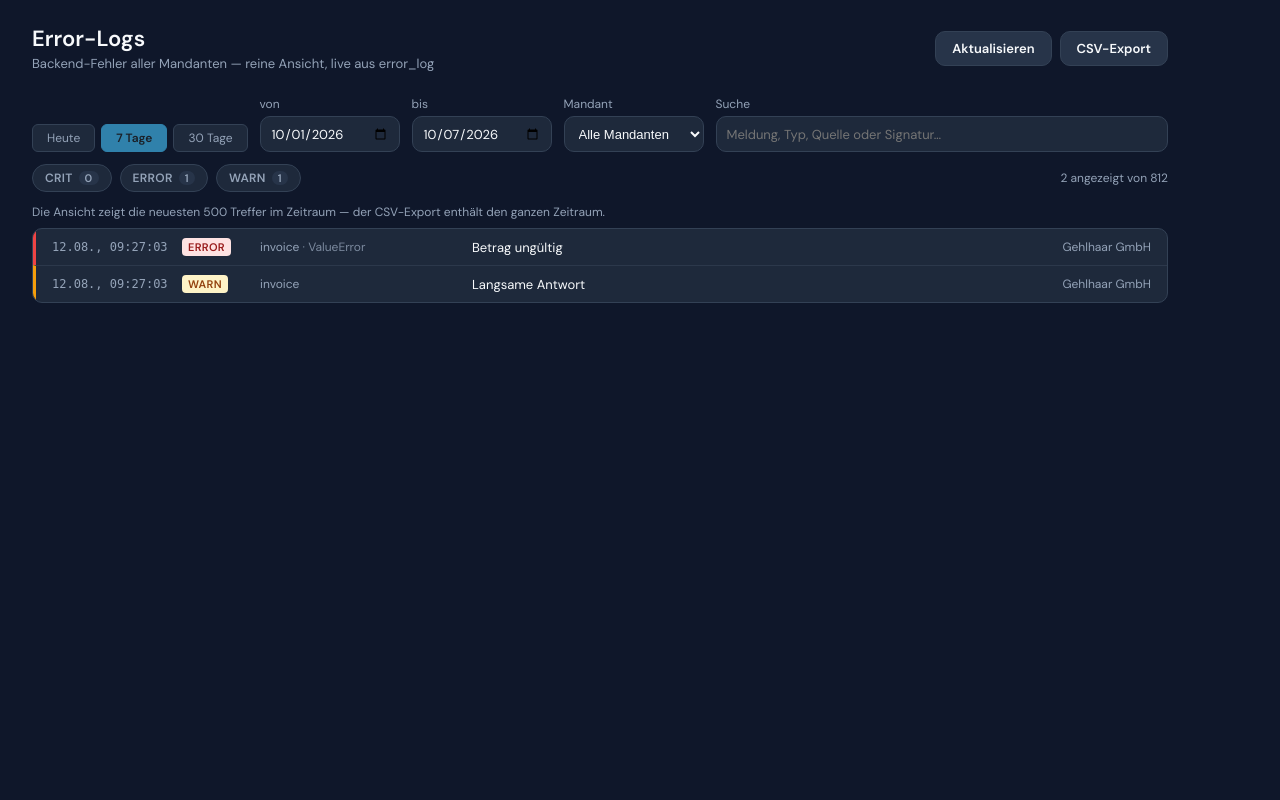
it: ErrorLogsScreen › öffnet das Detail als Overlay-Panel statt als Block unter der Liste
Step 1. Click the text "Betrag ungültig" → (517,247), box [472,238,563,256]
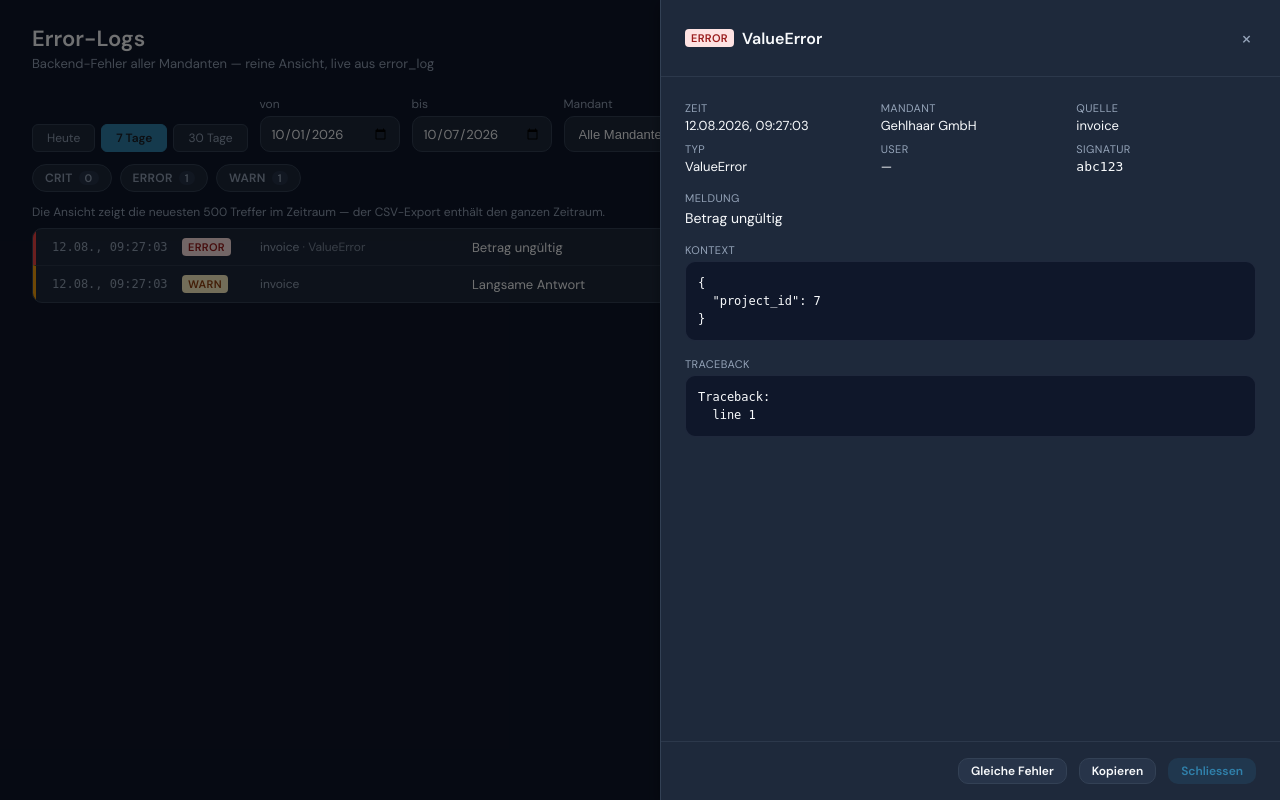
Now the dialog shows "Traceback", box [685,357,750,371]
Now the dialog shows "abc123", box [1076,159,1123,174]
Note: Escape schliesst wieder
Step 2. Press Escape
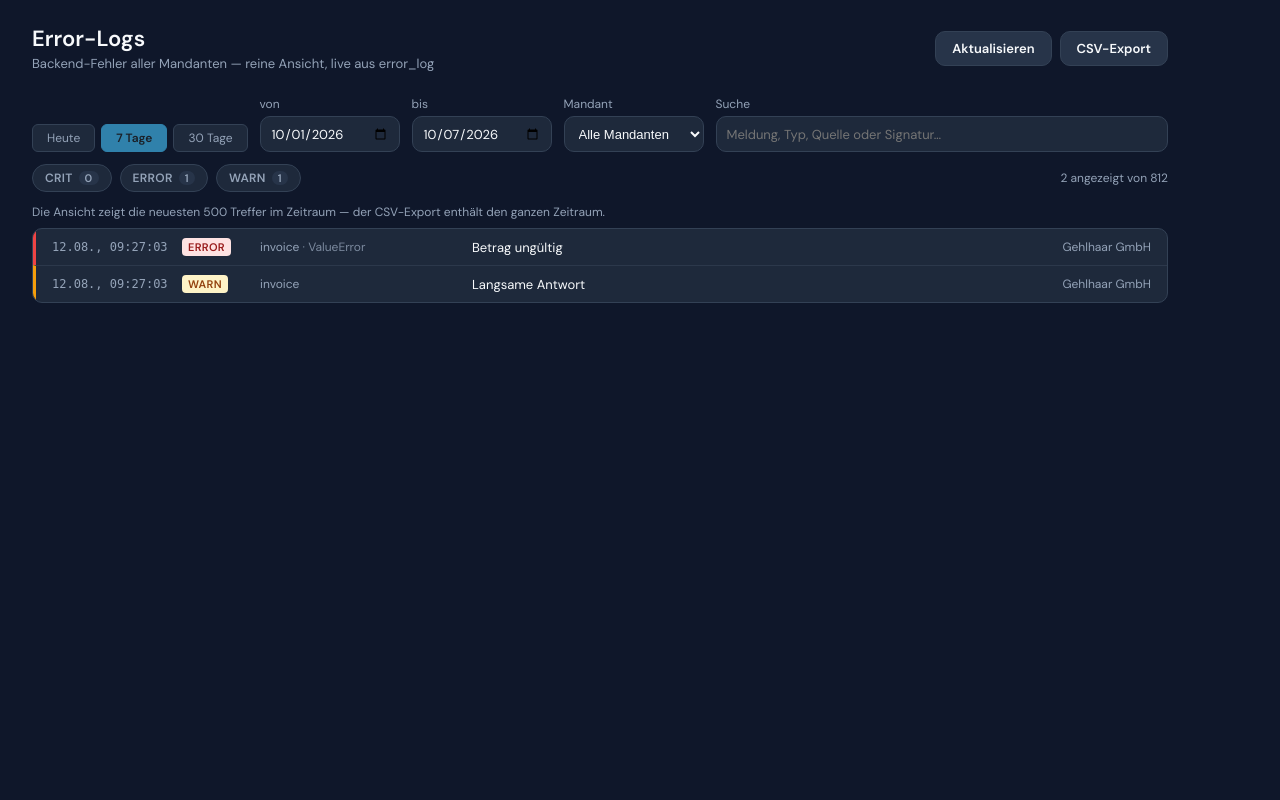
Now the dialog is gone
